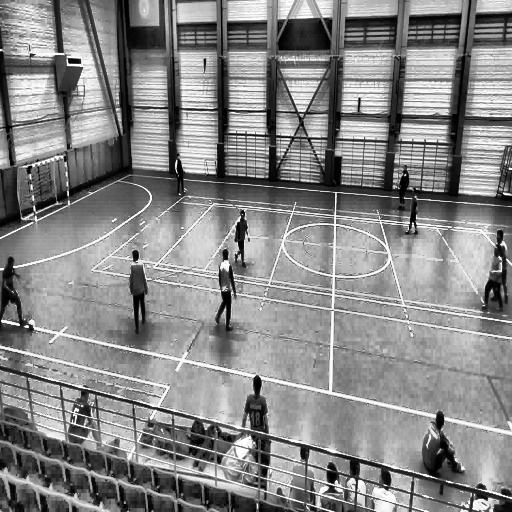ball: (27, 318, 36, 333)
player: (0, 255, 27, 333), (215, 247, 236, 332), (129, 249, 148, 336), (482, 242, 504, 314), (493, 231, 511, 307), (234, 208, 250, 268), (396, 161, 410, 213), (405, 184, 418, 234), (175, 153, 187, 197)
